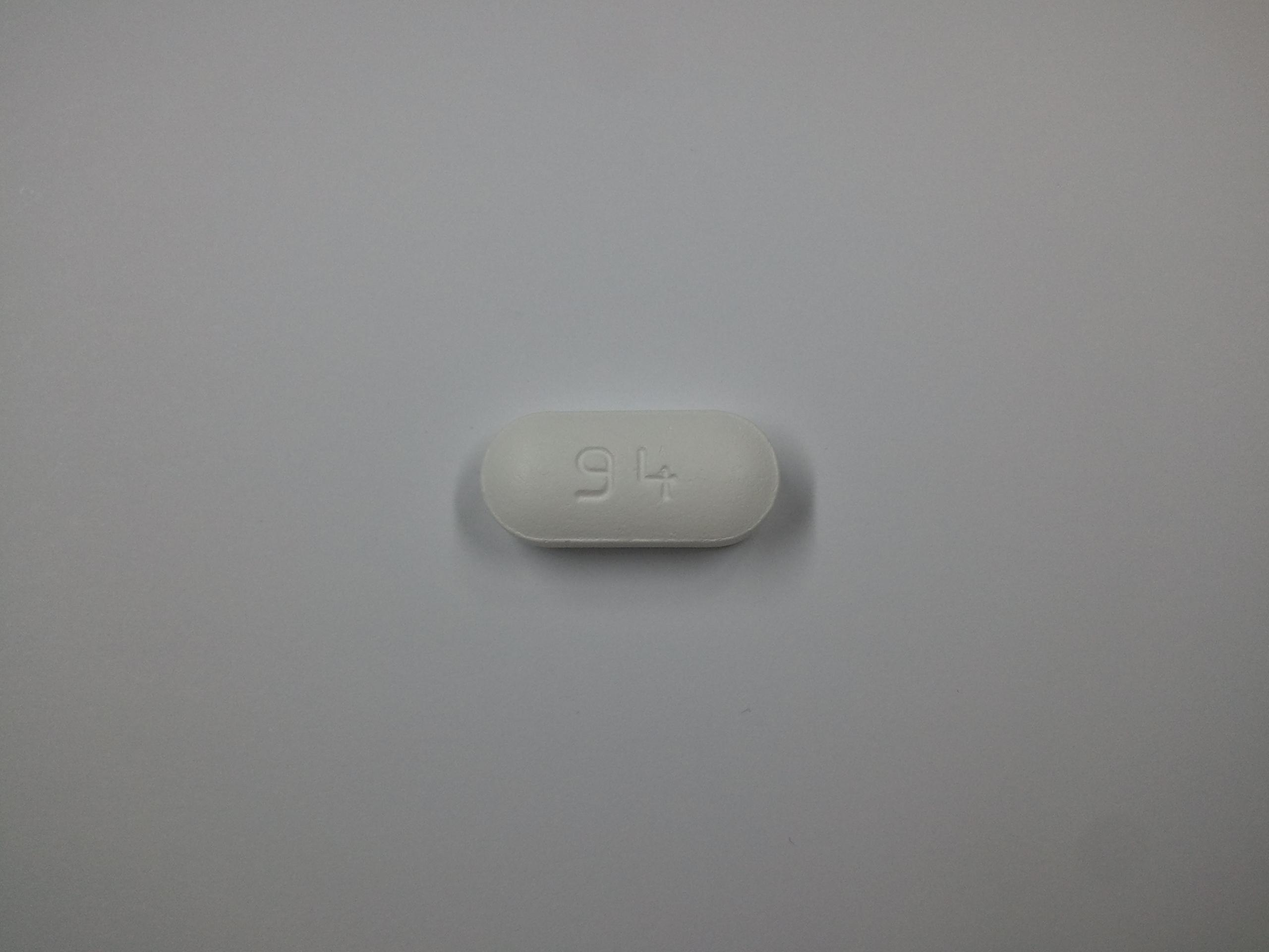Pill: (473, 398, 788, 557)
